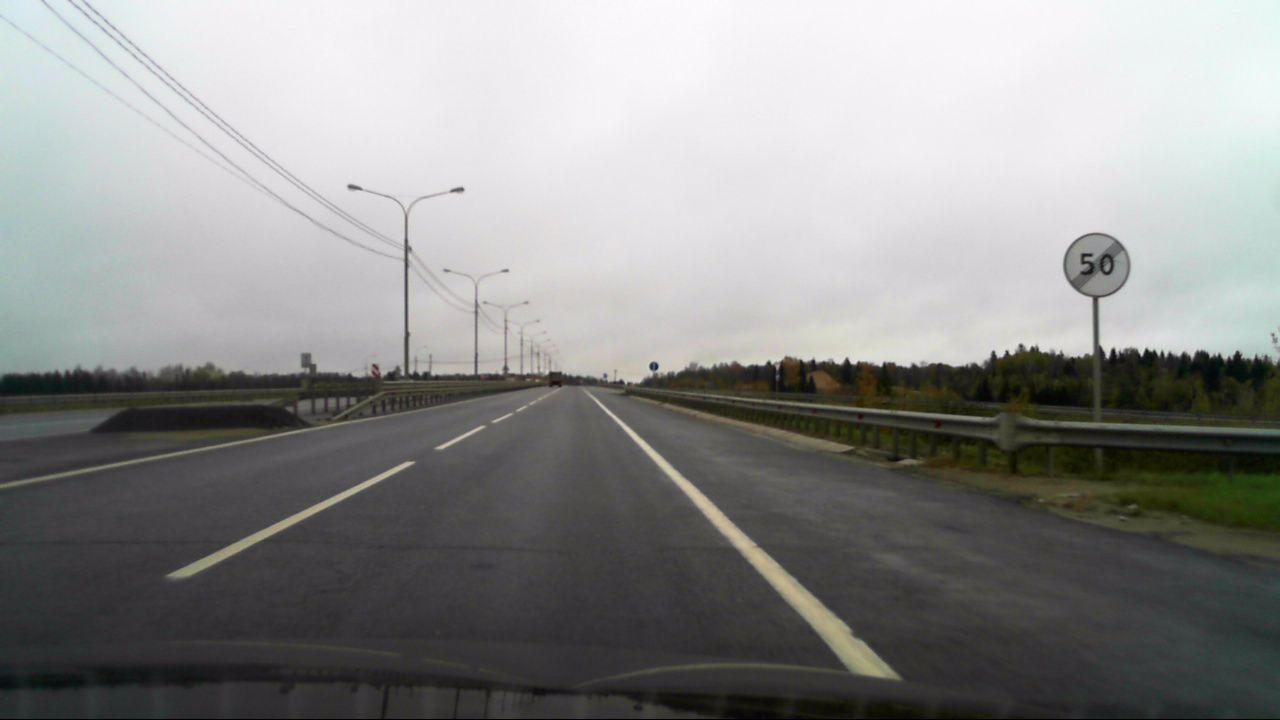3_25: (1062, 233, 1131, 298)
4_1_1: (649, 360, 659, 373)
